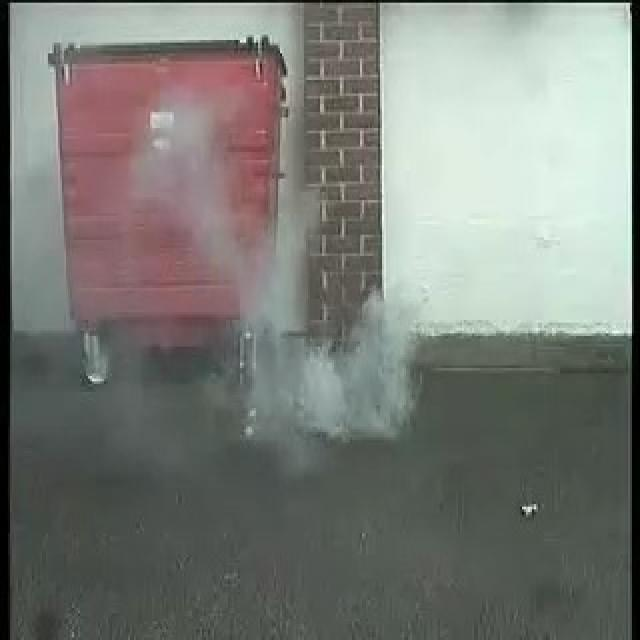smoke: (242, 204, 430, 442)
